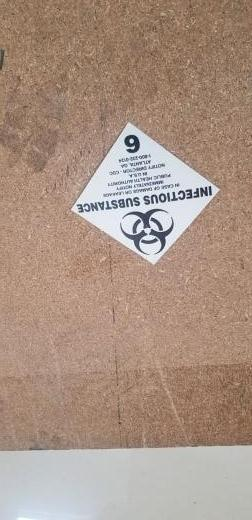infectious-substance: (70, 122, 221, 266)
